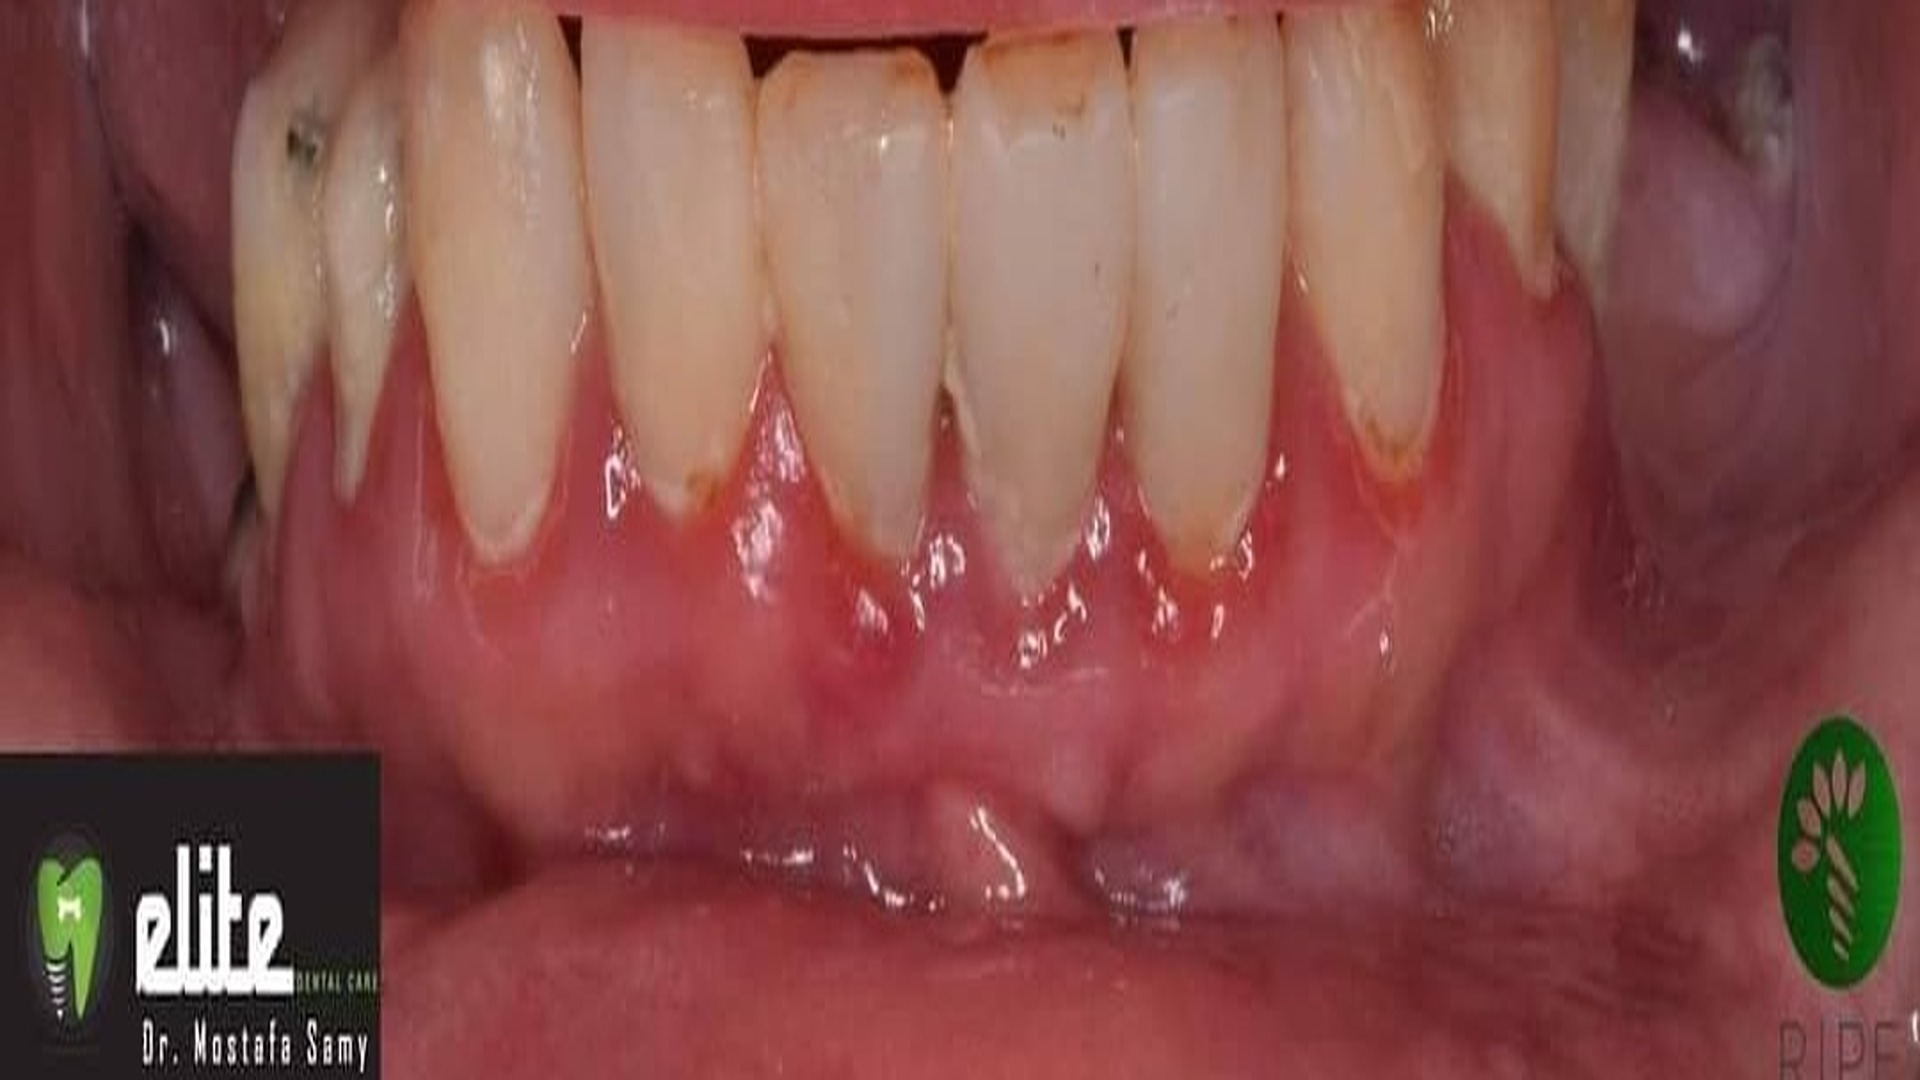tooth: (397, 3, 593, 566), (944, 28, 1135, 597), (757, 40, 952, 560), (579, 17, 775, 517), (1118, 9, 1287, 574), (1282, 3, 1447, 491)
